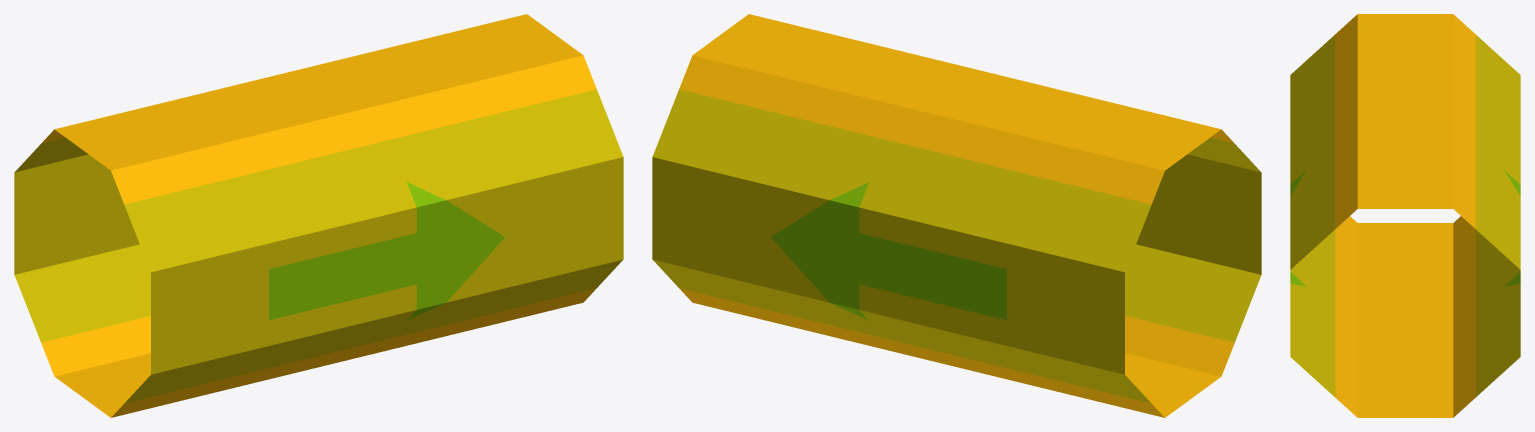
The model's file is fpe_pipe_straight_smooth_label_arrow.dae.
3 renders of one model, left to right at view 1: azimuth 30°, elevation 25°; view 2: azimuth 150°, elevation 25°; view 3: azimuth 270°, elevation 25°, orthographic. The views are drawn at different scales.
Visible parts, largest first — view 1: pipe_straight_smooth_label_arrow; view 2: pipe_straight_smooth_label_arrow; view 3: pipe_straight_smooth_label_arrow.
Boxes of the visible parts, x1=… form: pipe_straight_smooth_label_arrow: x1=14, y1=14, x2=623, y2=417; pipe_straight_smooth_label_arrow: x1=652, y1=14, x2=1261, y2=417; pipe_straight_smooth_label_arrow: x1=1290, y1=14, x2=1520, y2=417.
Bounding box in the file's own units: 0.25 × 0.125 × 0.125.
